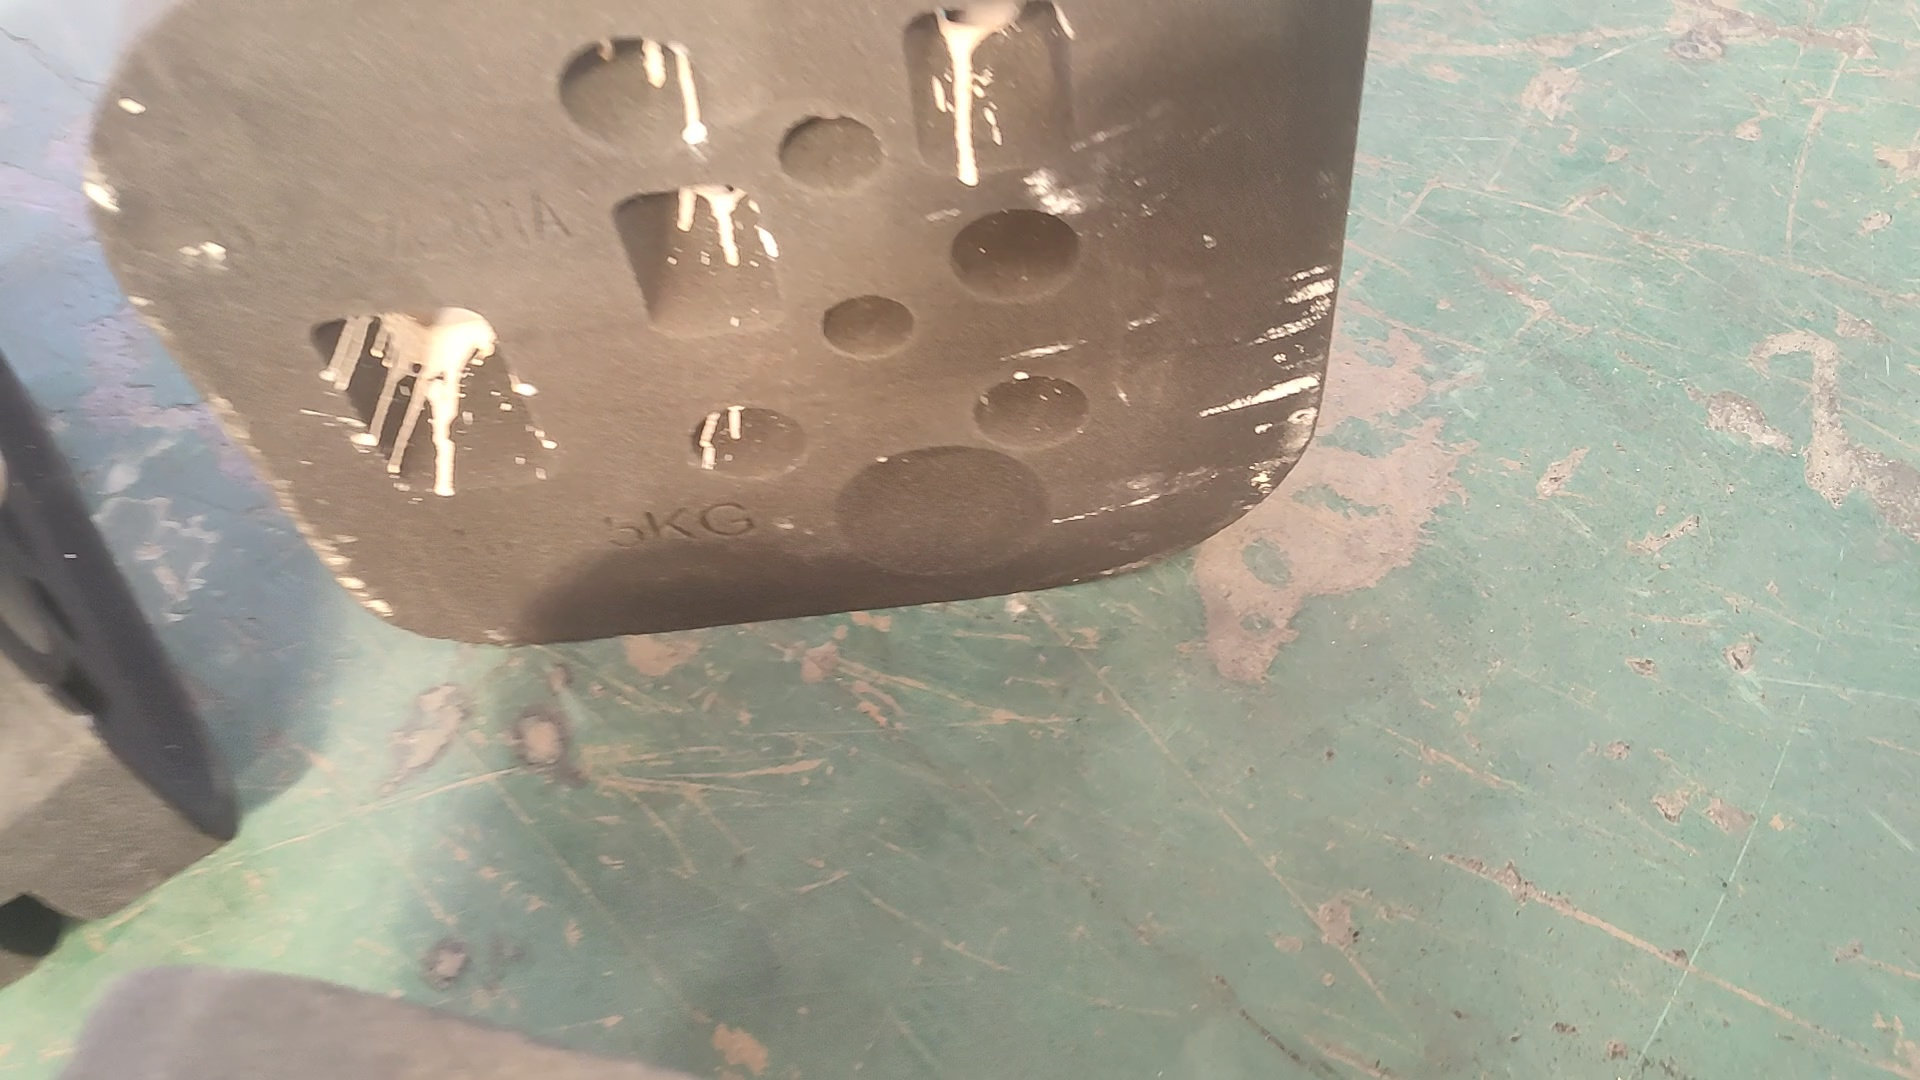pouring hole: (829, 444, 1050, 578)
